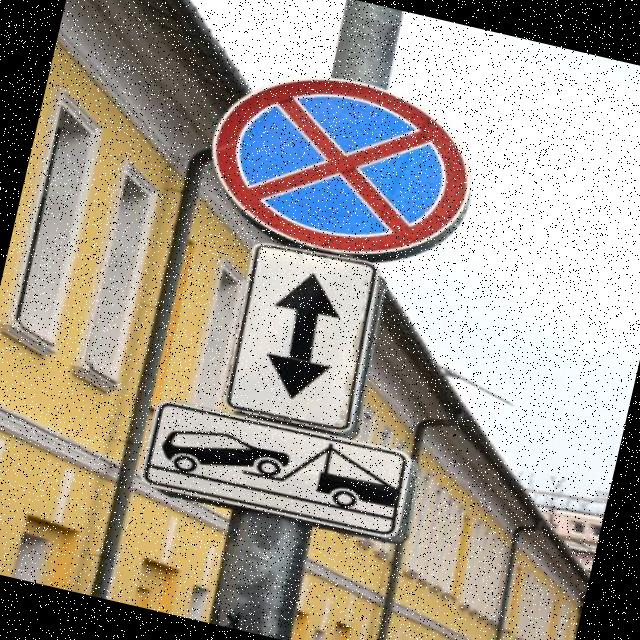no_parking: (192, 50, 499, 285)
